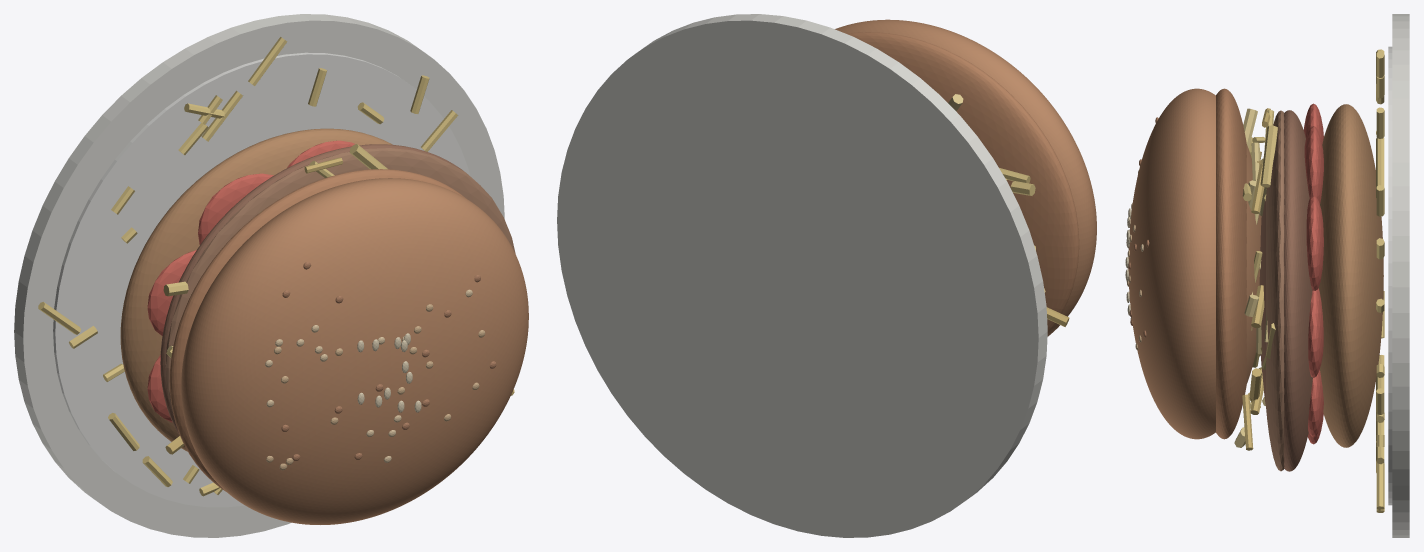
File: hamburguesa_360 (1).glb
3 views of the same model, side by side, from view 1: azimuth 30°, elevation 25°; view 2: azimuth 150°, elevation 25°; view 3: azimuth 270°, elevation 25° (orthographic). The views are drawn at different scales.
Visible parts, largest first — view 1: world; view 2: world; view 3: world.
Boxes of the visible parts, x1=… form: world: x1=14, y1=14, x2=528, y2=537; world: x1=557, y1=14, x2=1096, y2=537; world: x1=1125, y1=14, x2=1409, y2=537.
Bounding box in the file's own units: 3.06 × 3.06 × 1.66.
